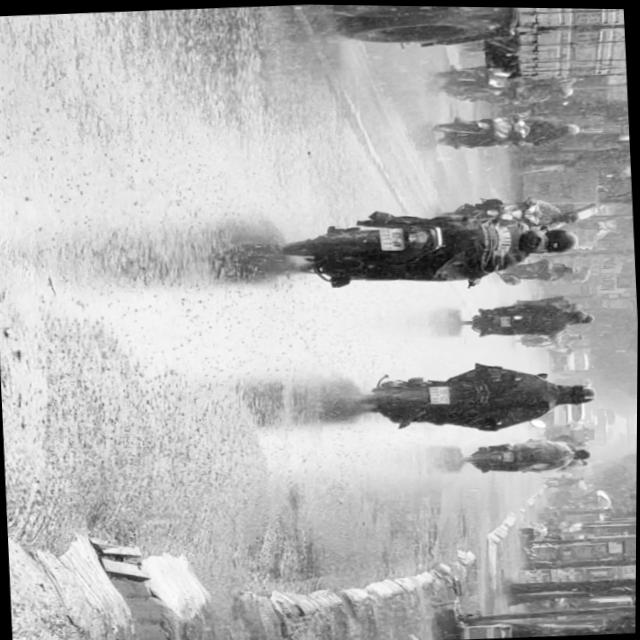helmet: (538, 225, 581, 252), (558, 380, 599, 404)
licenseplate: (276, 194, 586, 297), (347, 354, 602, 438)
nohelmet: (380, 225, 405, 249), (430, 385, 451, 404)
